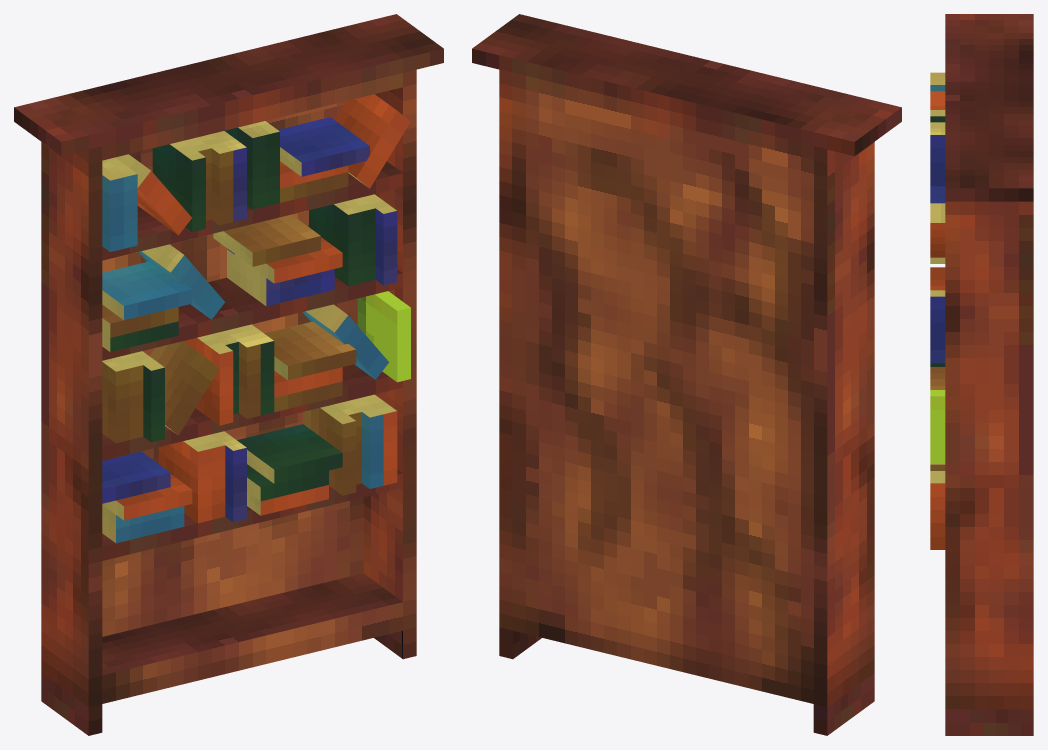
The model's file is bookshelf.glb.
3 views of the same model, side by side, from view 1: azimuth 30°, elevation 25°; view 2: azimuth 150°, elevation 25°; view 3: azimuth 270°, elevation 25° (orthographic). The views are drawn at different scales.
Visible parts, largest first — view 1: Bookshelf-col; view 2: Bookshelf-col; view 3: Bookshelf-col.
Part boxes in pixels (x1=…): Bookshelf-col: x1=14, y1=14, x2=443, y2=735; Bookshelf-col: x1=472, y1=14, x2=901, y2=735; Bookshelf-col: x1=930, y1=14, x2=1033, y2=735.
Bounding box in the file's own units: 1.75 × 2.62 × 0.4375.
Materials: 2 (2 with a texture image).
